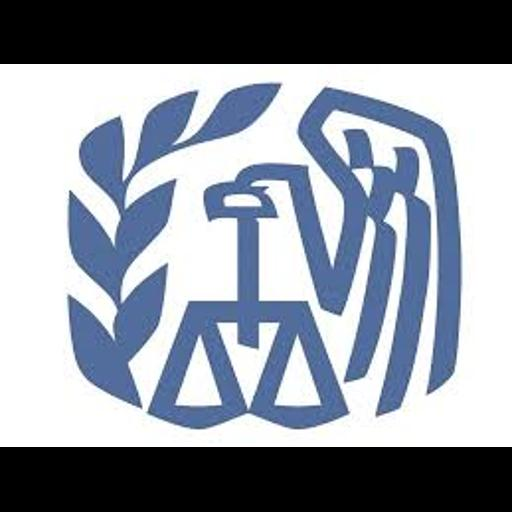IRS: (0, 64, 512, 447)
